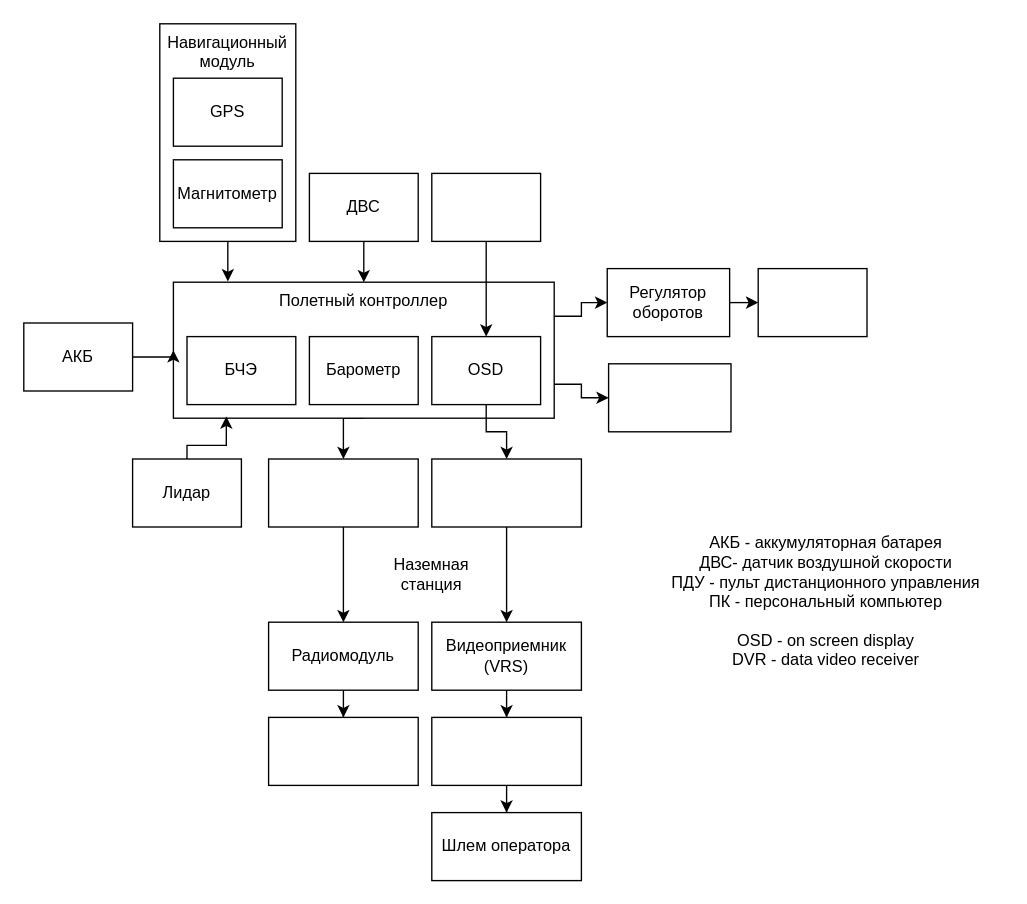
Some shapes in this 1027 by 904 pixel diagram are drawn without their labels. Here are the shapes that lost their labels. From the top down, the centre of each, then its label:
At pixel 485 206: "Камера".
At pixel 812 302: "Мотор".
At pixel 669 397: "Сервоприводы".
At pixel 342 492: "Телеметрия".
At pixel 505 492: "Видеопередатчик (VTX)".
At pixel 342 750: "ПДУ / ПК".
At pixel 505 750: "Видеорегистратор (DVR)".
